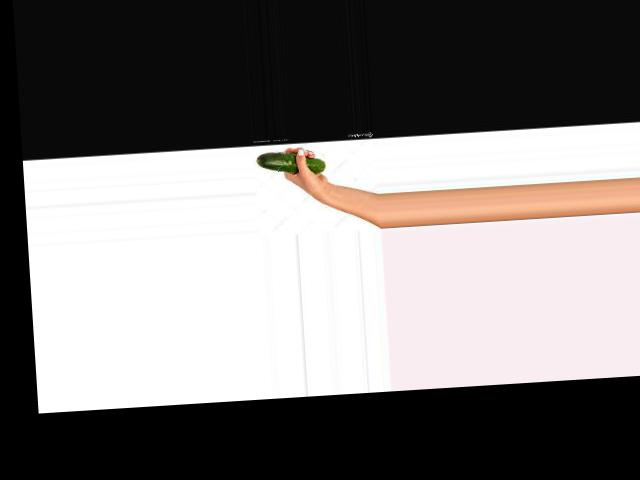cucumber: (255, 148, 325, 176)
